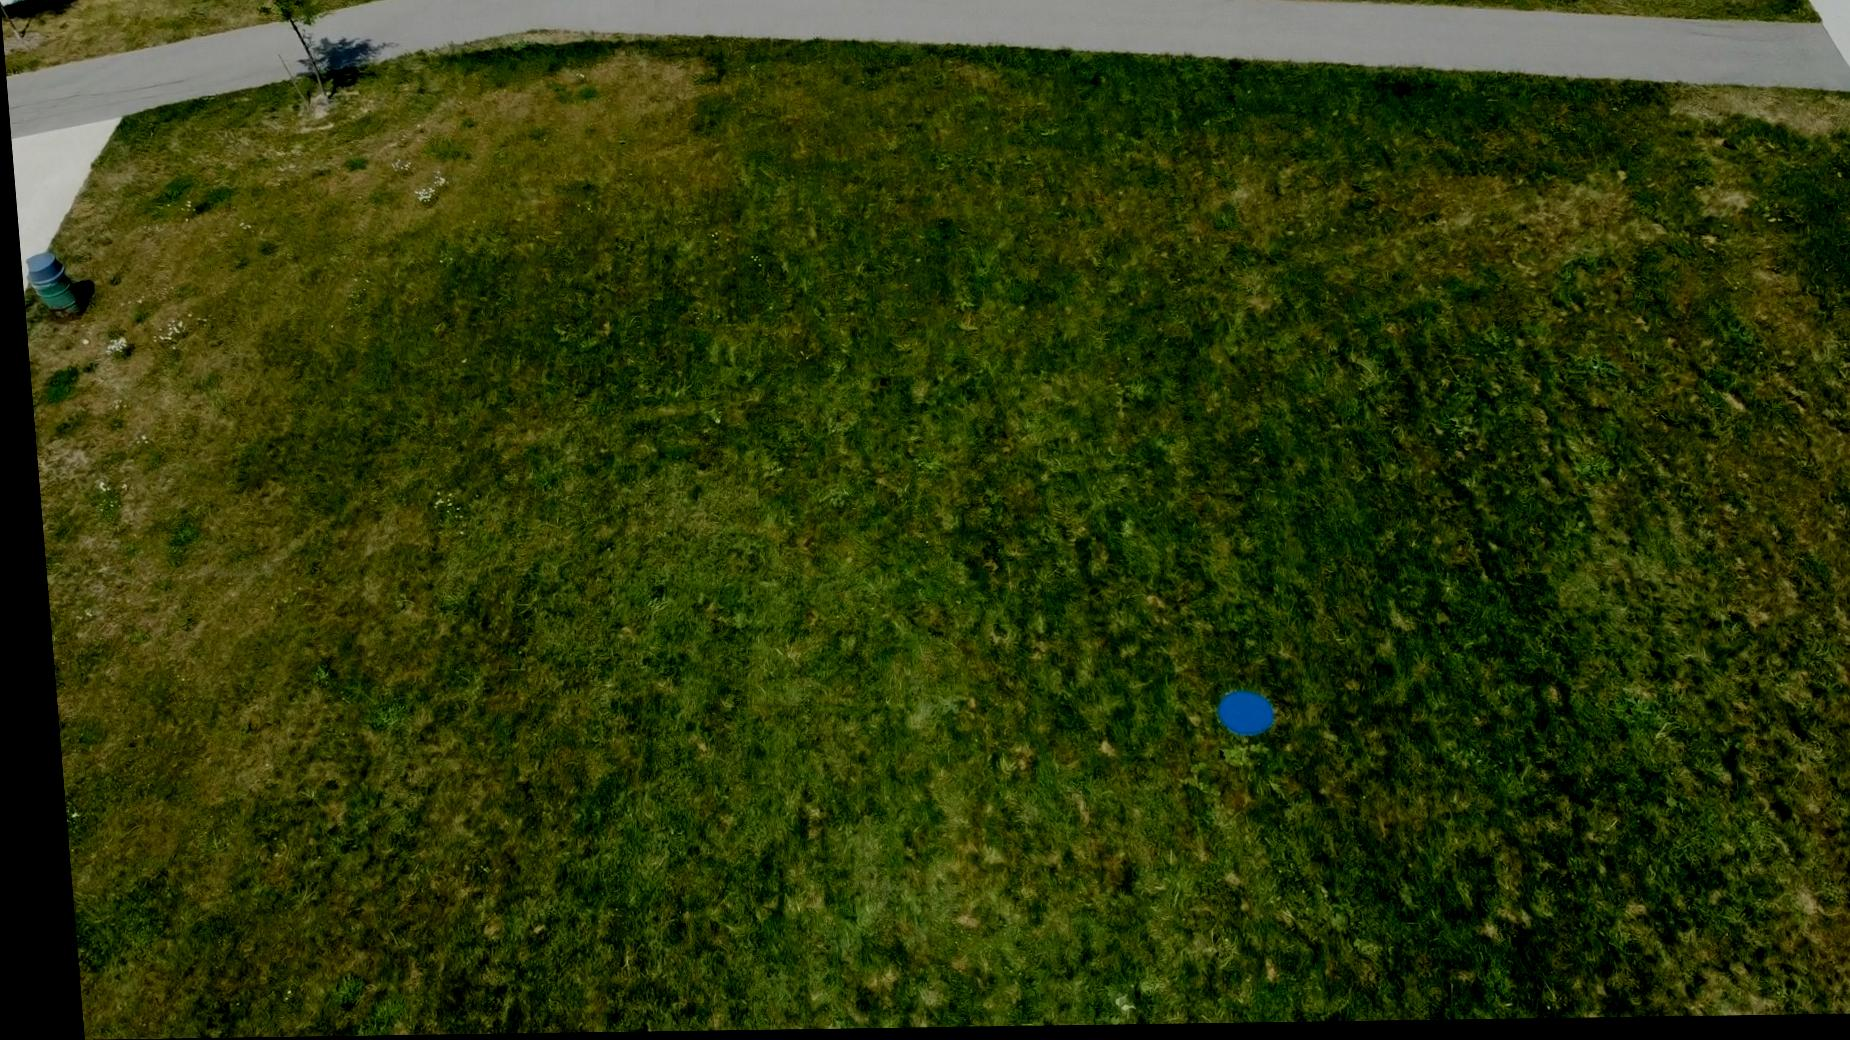Blue: (1202, 690, 1264, 743)
